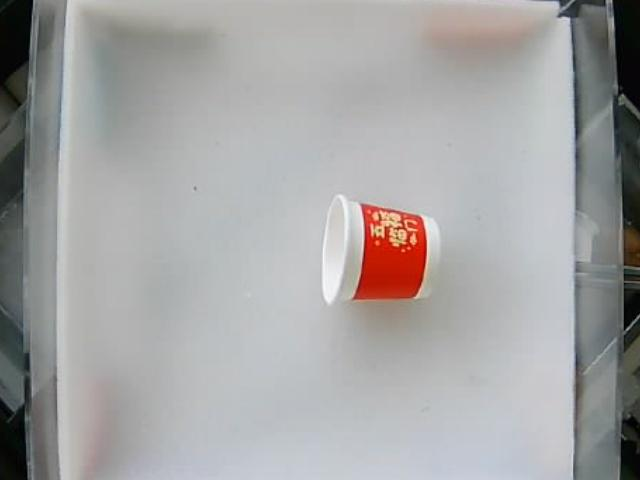Cup: (319, 196, 441, 309)
